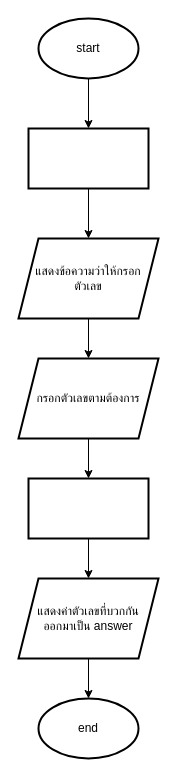
Some shapes in this 176 by 776 pixel diagram are drawn without their labels. The shapes that lost their labels are listed below. From the top down, each one's centre as x and y in pixels, then its label:
At pixel 88 158: "กำหนดตัวแปร มา 4 ตัว a b c answer".
At pixel 88 508: "นำค่าตัวเลขมาบวกกัน".
